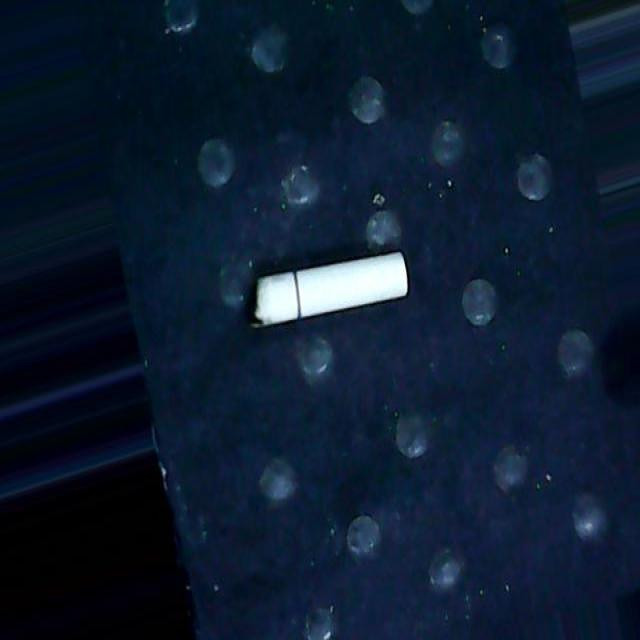-Other waste - cigarette butt-: (253, 250, 408, 330)
